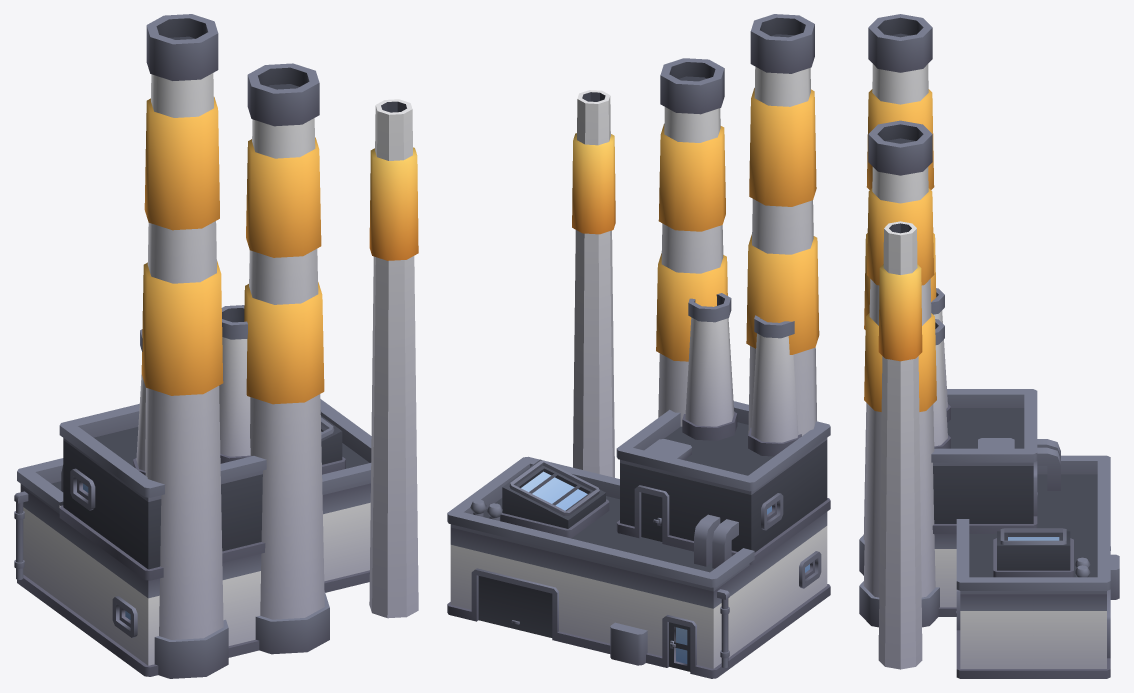
File: plant_chimneys.glb
The picture shows the model from 3 angles, left to right: view 1: azimuth 30°, elevation 25°; view 2: azimuth 150°, elevation 25°; view 3: azimuth 270°, elevation 25°; orthographic projection. The views are drawn at different scales.
Visible parts, largest first — view 1: plant_chimneys; view 2: plant_chimneys; view 3: plant_chimneys.
Boxes of the visible parts, x1,y1,x2,y2 form: plant_chimneys: [14, 14, 418, 678]; plant_chimneys: [447, 14, 830, 678]; plant_chimneys: [859, 14, 1119, 678].
Bounding box in the file's own units: 0.94 × 1.83 × 0.7934.
5 materials, 5 textured.
